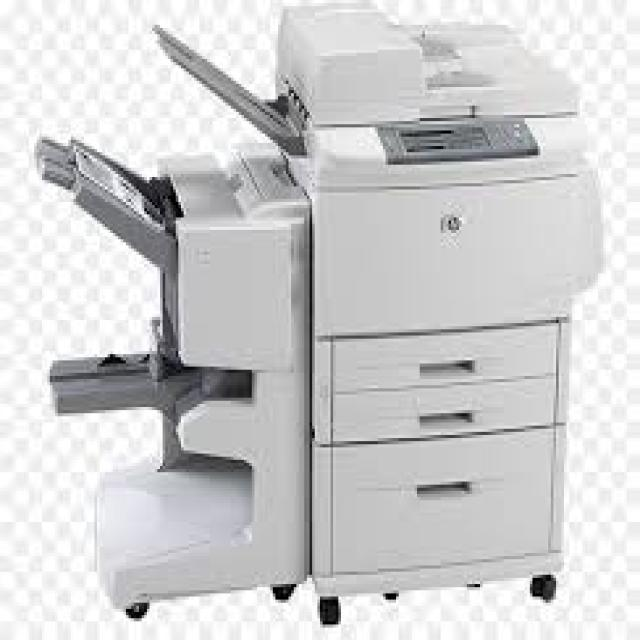printer: (31, 0, 603, 624)
